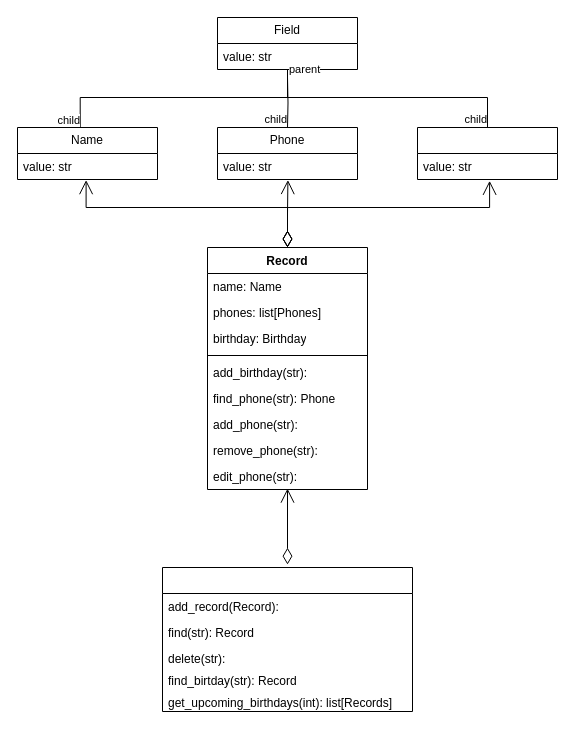
The diagram is 575 pixels wide and 732 high, and some of its shapes have lost their labels. The shapes that lost their labels are listed below. From the top down, each one's box as (x1, y1, x2, y2) in pixels, then its label:
(416, 126, 558, 180): Birthday
(162, 566, 412, 712): AddressBook
